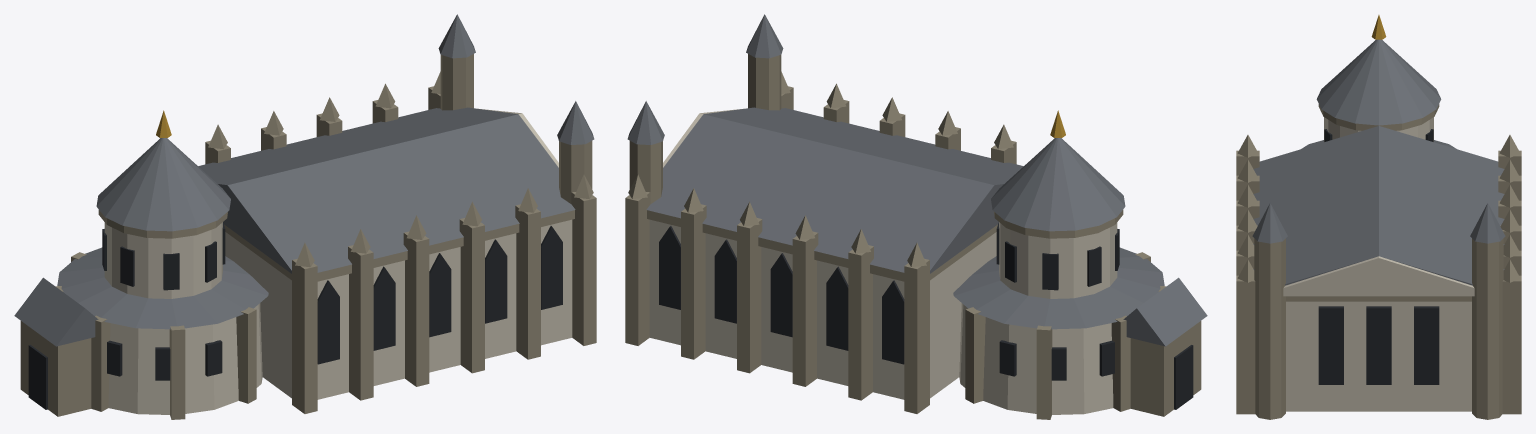
Rendered from temple_church.glb.
3 views of the same model, side by side, from view 1: azimuth 30°, elevation 25°; view 2: azimuth 150°, elevation 25°; view 3: azimuth 270°, elevation 25° (orthographic). The views are drawn at different scales.
Parts seen in each view (by area): view 1: temple_church; view 2: temple_church; view 3: temple_church.
Boxes of the visible parts, x1=… form: temple_church: x1=14, y1=14, x2=596, y2=419; temple_church: x1=625, y1=14, x2=1207, y2=419; temple_church: x1=1236, y1=15, x2=1521, y2=419.
Bounding box in the file's own units: 49.98 × 25.2 × 27.
